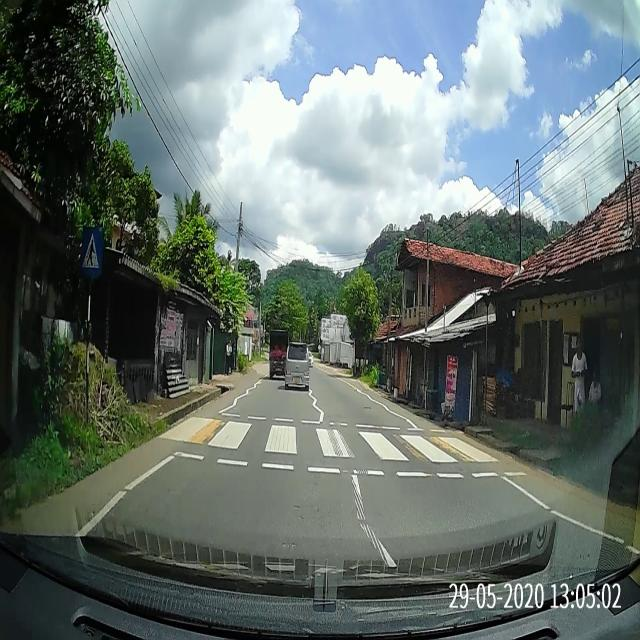Crosswalk: (160, 410, 540, 481)
